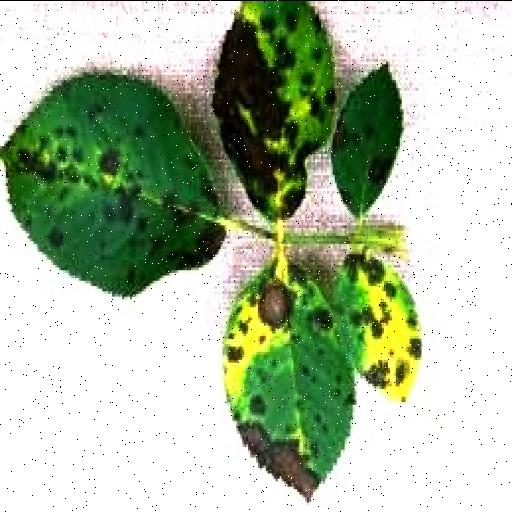downy_mildew: (2, 73, 224, 296), (225, 265, 354, 497), (213, 1, 334, 220), (333, 255, 421, 399), (331, 65, 401, 217)
